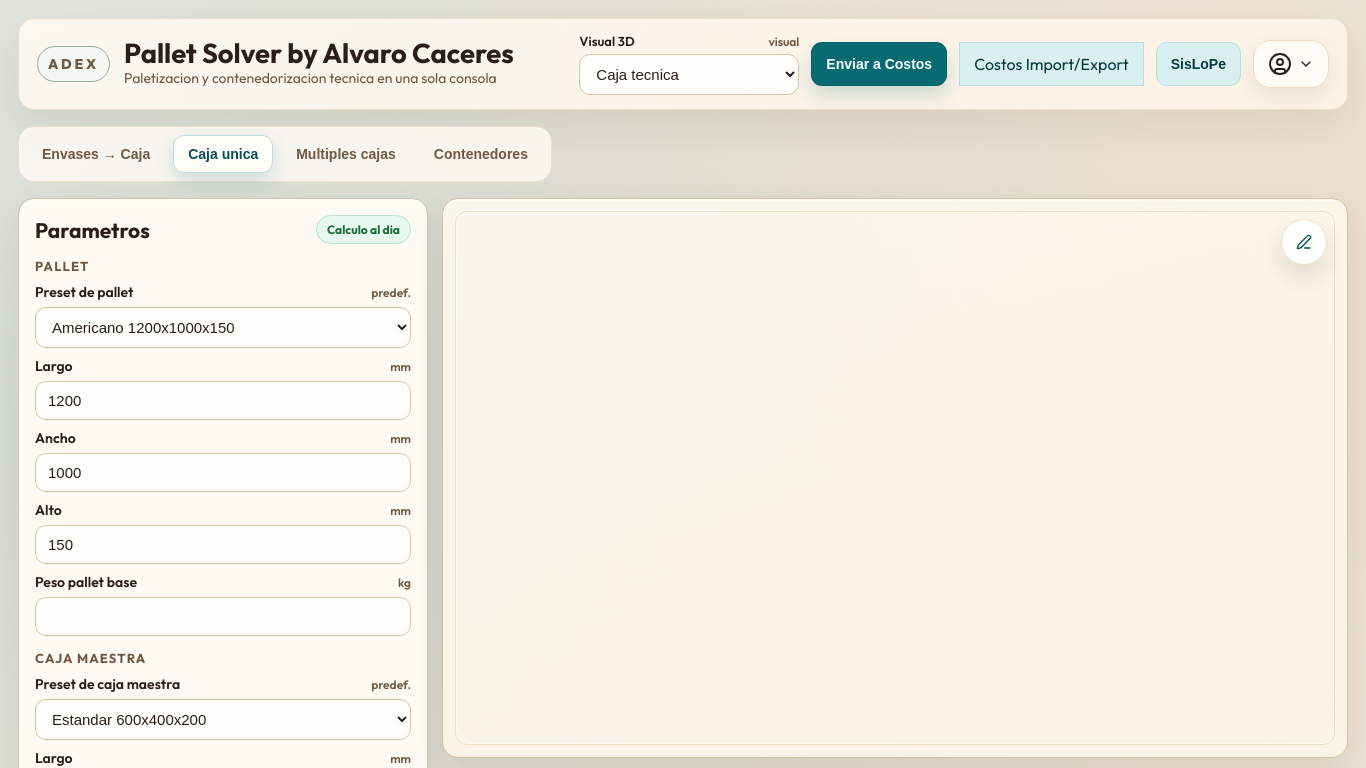
Test: App label designer › restaura etiquetas desde storage al recargar App
Click the button named "editar caja maestra" at (1304, 242), box [1281,219,1327,265]
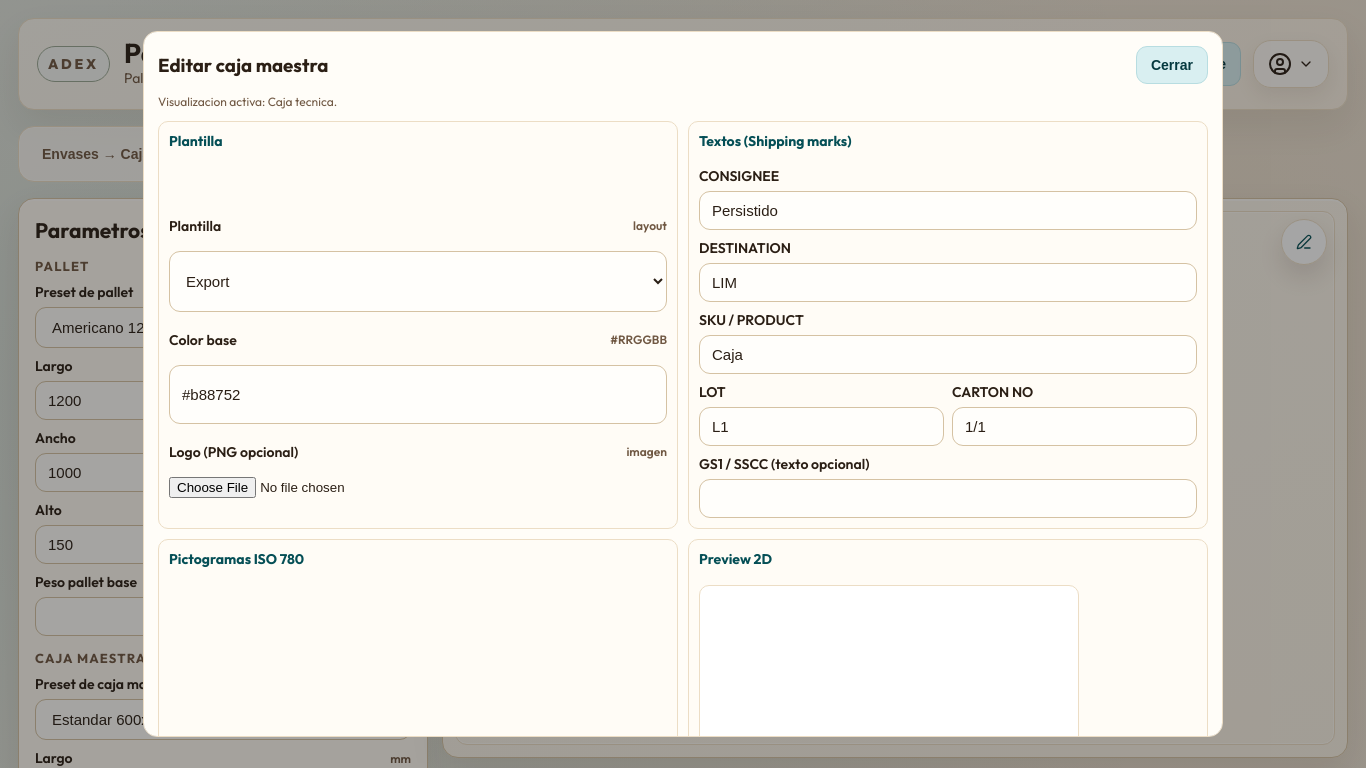
Expected: the field labelled "CONSIGNEE" holds "Persistido", [699,191,1197,230]
